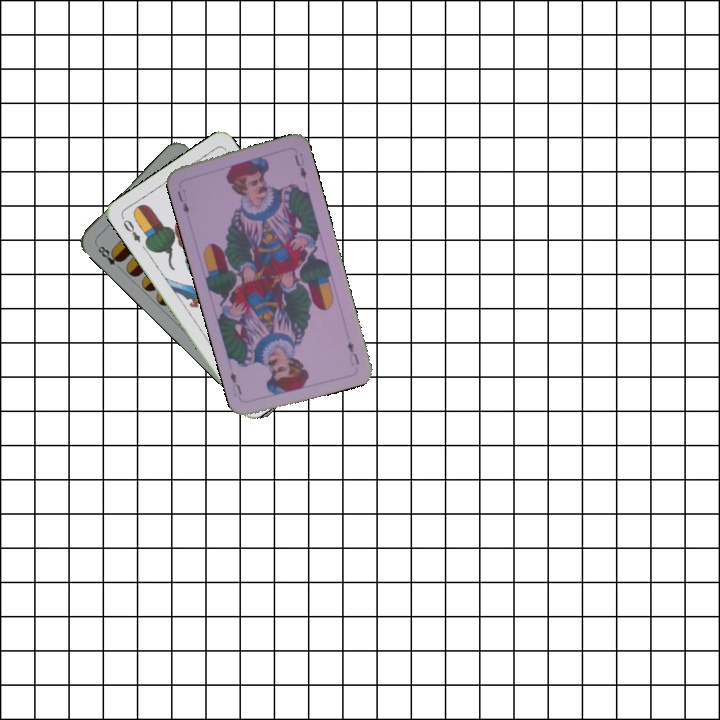E8: (93, 240, 125, 273)
EO: (119, 215, 143, 245)
EU: (173, 185, 192, 217), (343, 337, 362, 369)
